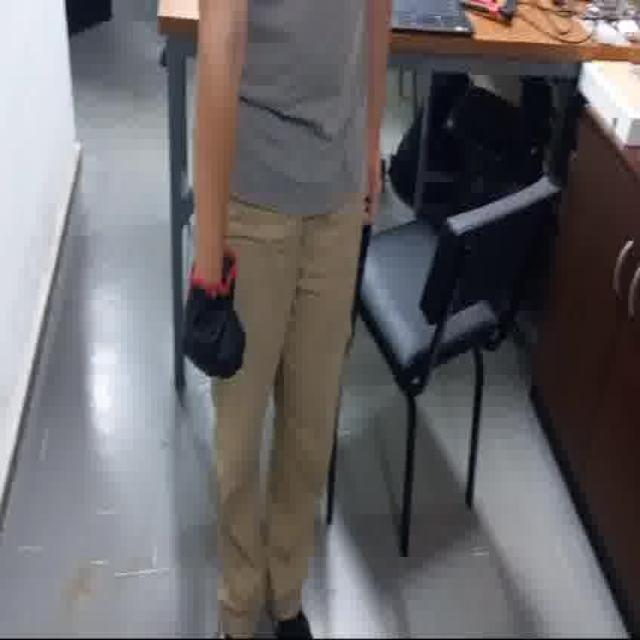Gloves: (170, 251, 252, 396)
